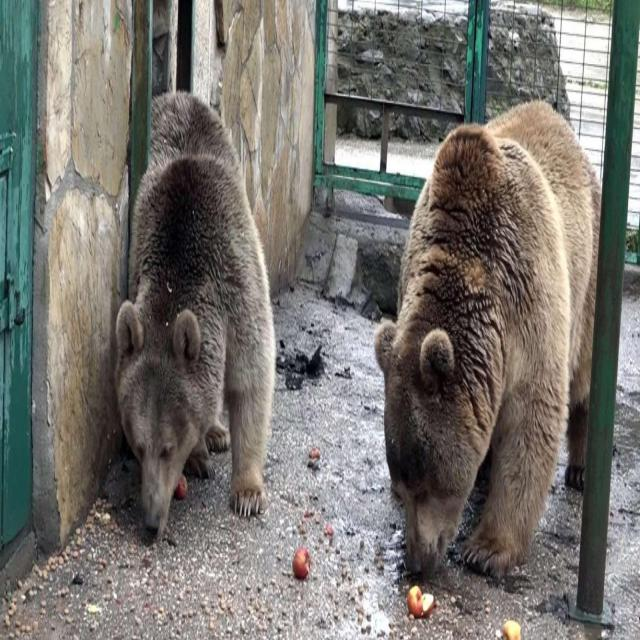Bear: (374, 101, 601, 618), (112, 91, 278, 548)
